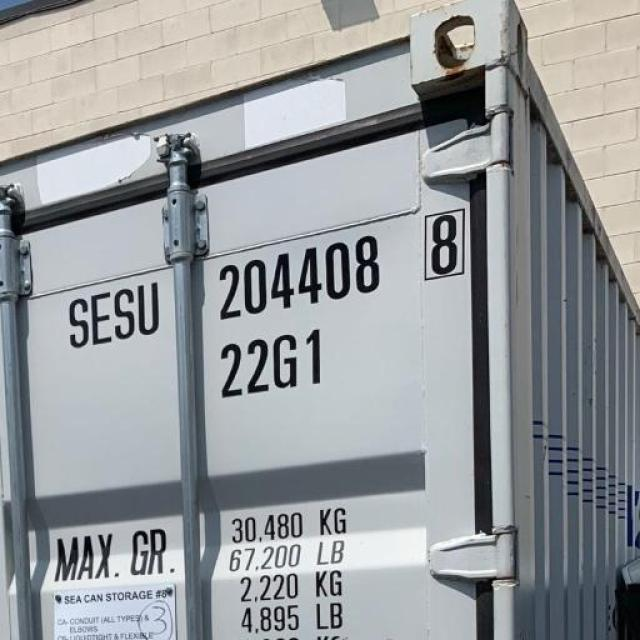ISO: (214, 330, 346, 400)
container_number: (61, 210, 468, 347)
